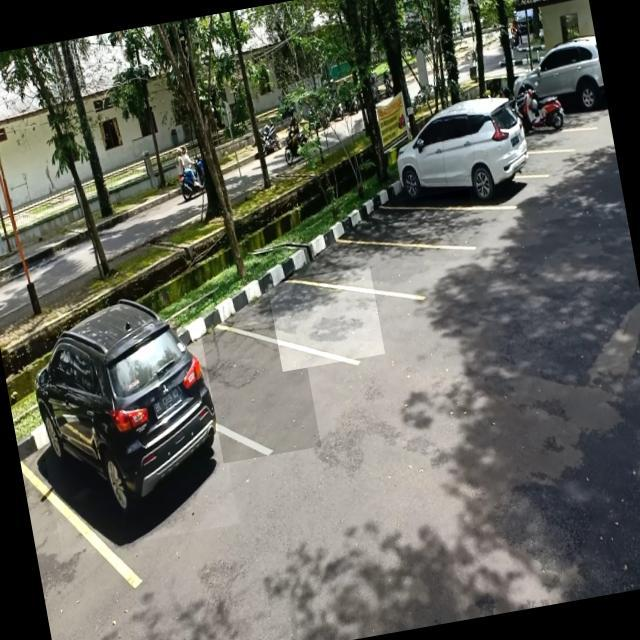empty: (200, 316, 320, 463), (267, 266, 385, 371), (371, 188, 478, 262), (326, 226, 420, 308)
occupied: (25, 314, 239, 554), (386, 108, 536, 220)
